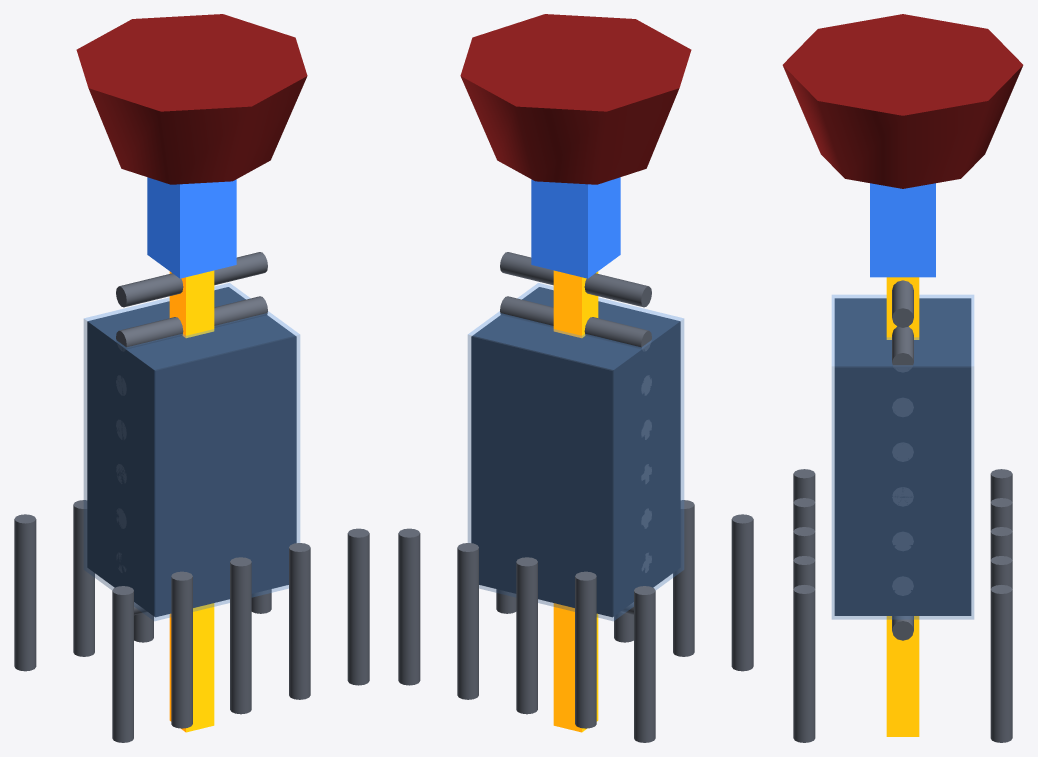
File: caster.glb
The picture shows the model from 3 angles, left to right: view 1: azimuth 30°, elevation 25°; view 2: azimuth 150°, elevation 25°; view 3: azimuth 270°, elevation 25°; orthographic projection.
Size of the model in its own units: 5.4 by 13.4 by 4.4.
